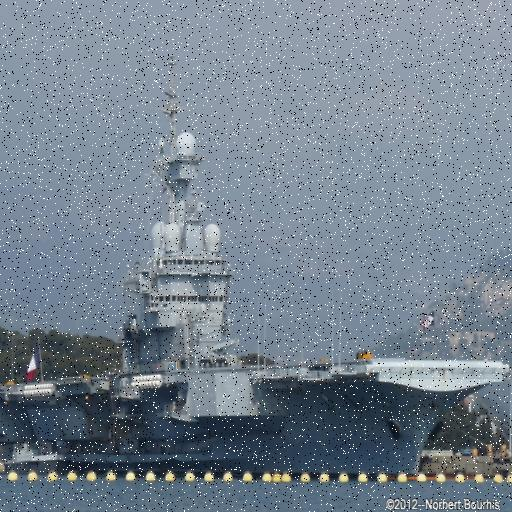Portanaves: (1, 43, 508, 487)
